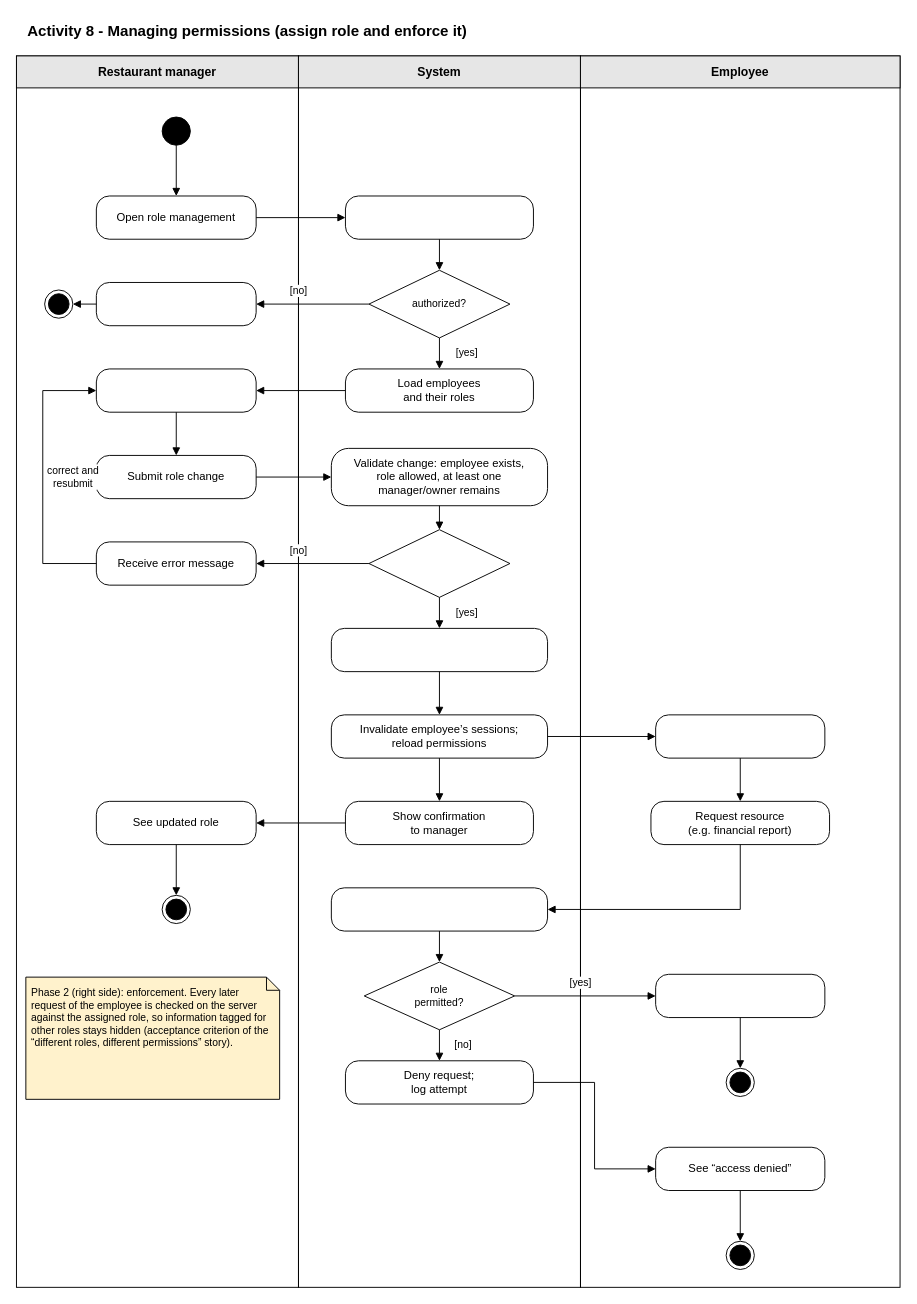
This 917x1304 diagram has some shape labels left out. Here are the shapes that lost their labels. From the top down, the centre of each, then its label:
[439,217]: Check requester has “manage roles” permission
[175,304]: Receive “access denied”
[175,390]: Select employee and new role
[439,563]: change valid?
[439,649]: Update role assignment; write audit log (who, what, when)
[740,736]: Receive role-change notification
[439,909]: Compare resource tag with employee’s role permissions
[740,995]: View resource
